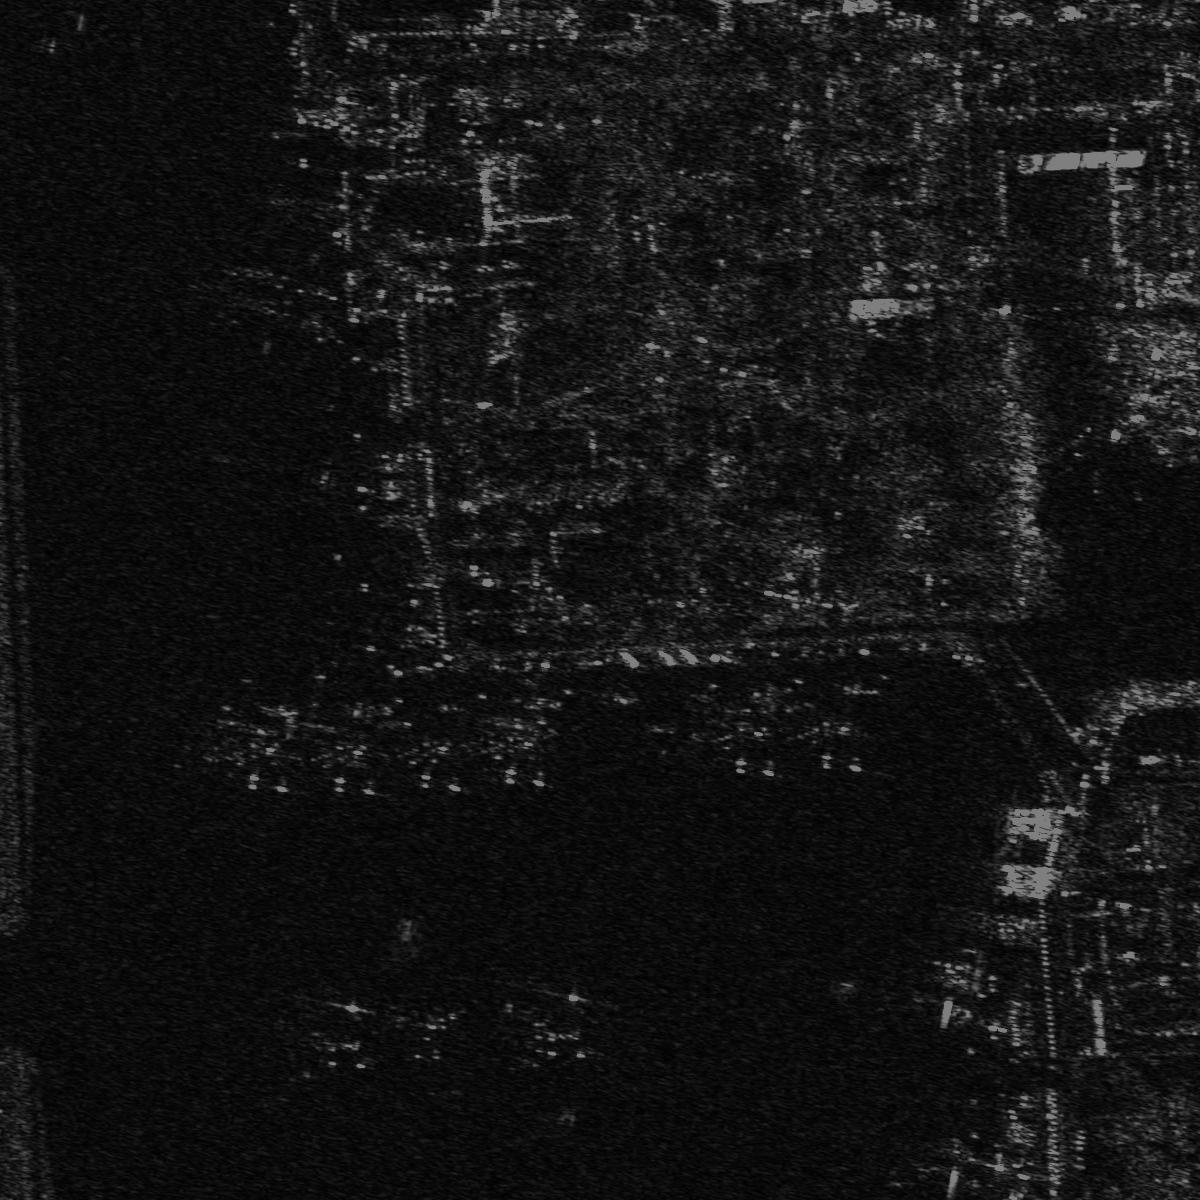A320/321: (232, 702, 304, 795)
ARJ21: (709, 692, 775, 779)
Boeing737: (789, 681, 880, 776), (307, 705, 391, 796), (397, 702, 476, 793)
other: (505, 979, 604, 1064), (479, 696, 562, 791), (296, 992, 376, 1075), (393, 995, 479, 1068)
